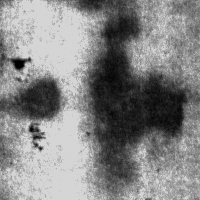patches: (84, 46, 188, 152), (2, 74, 64, 122), (95, 10, 142, 49)
